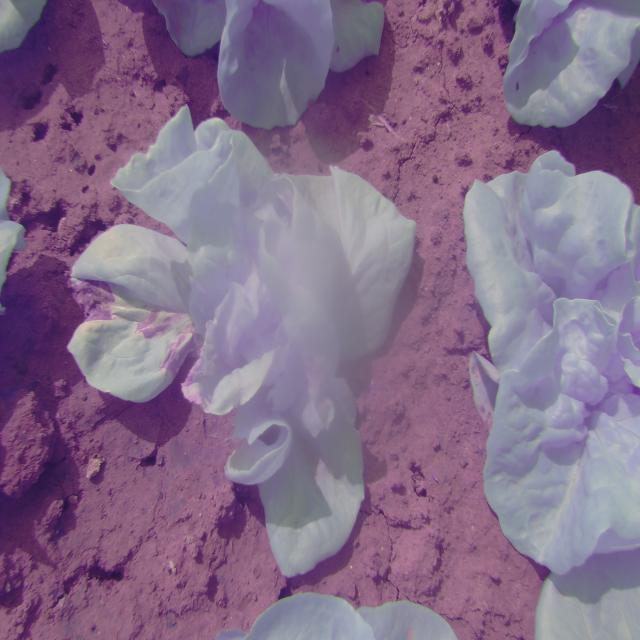vege: (63, 107, 418, 573)
